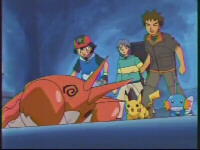mudkip: (162, 81, 193, 119)
pikachu: (121, 88, 161, 122)
